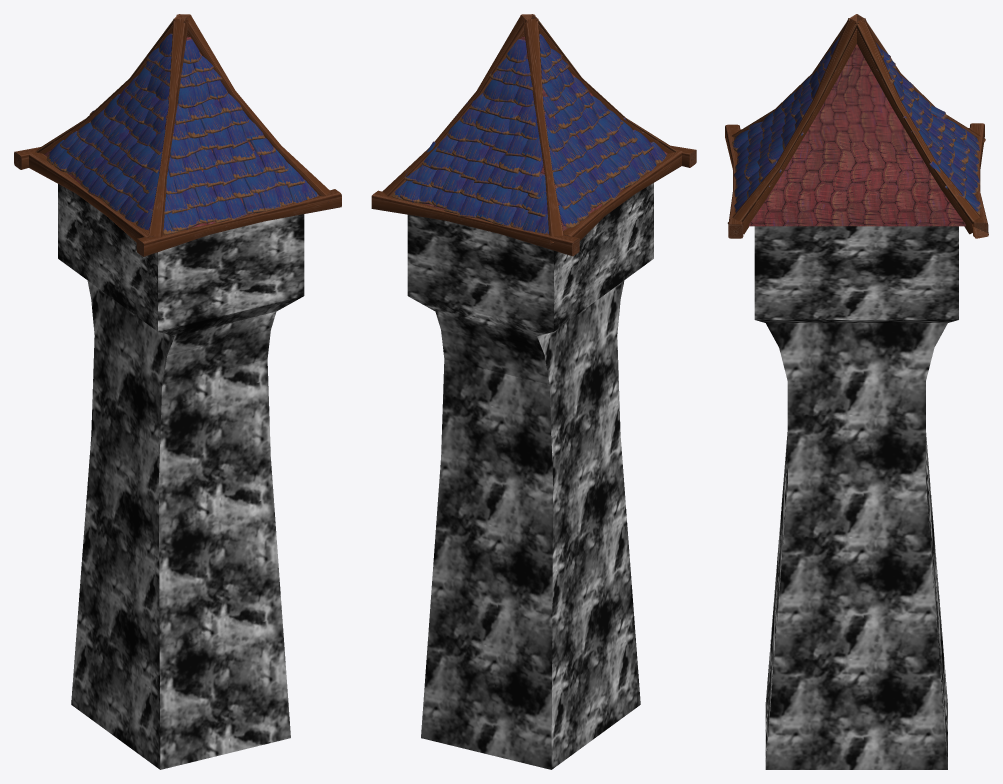
File: SM_Tower_02.fbx
3 views of the same model, side by side, from view 1: azimuth 30°, elevation 25°; view 2: azimuth 150°, elevation 25°; view 3: azimuth 270°, elevation 25° (orthographic). The views are drawn at different scales.
Parts seen in each view (by area): view 1: SM_Tower_02_LOD0; view 2: SM_Tower_02_LOD0; view 3: SM_Tower_02_LOD0.
Boxes of the visible parts, box(x1,y1,x2,y2) form: SM_Tower_02_LOD0: box(14, 14, 341, 769); SM_Tower_02_LOD0: box(371, 14, 696, 769); SM_Tower_02_LOD0: box(725, 14, 988, 769).
Size of the model in its own units: 911 by 999 by 3008.
Materials: 4 (4 with a texture image).
